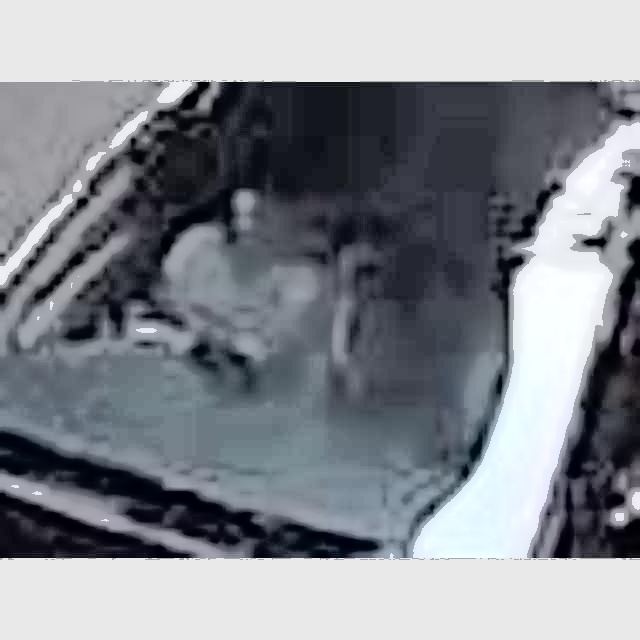tidak-pakai: (143, 198, 368, 409)
